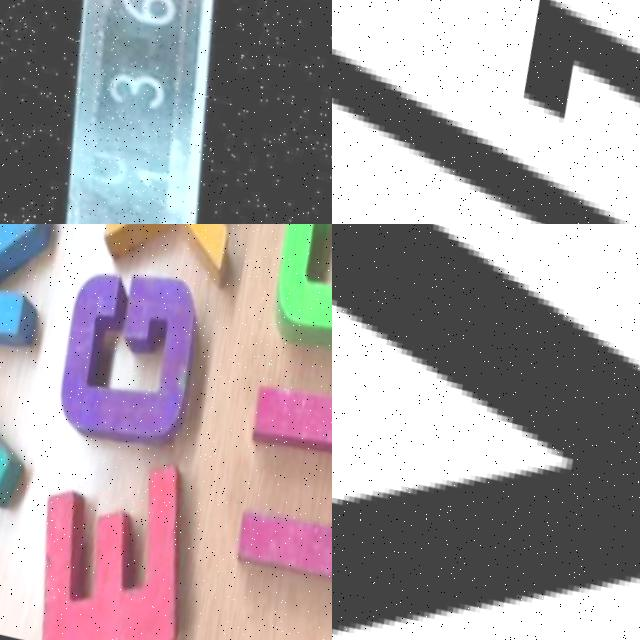3: (87, 66, 163, 122)
6: (100, 0, 173, 35)
C: (238, 224, 332, 381)
E: (3, 447, 215, 640)
G: (332, 0, 640, 224), (20, 238, 238, 490)
N: (0, 224, 69, 361)
U: (193, 365, 332, 630)
V: (332, 224, 640, 640)
X: (80, 224, 277, 283)
